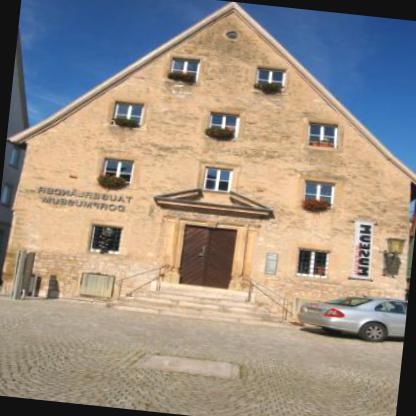car: (293, 288, 407, 352)
